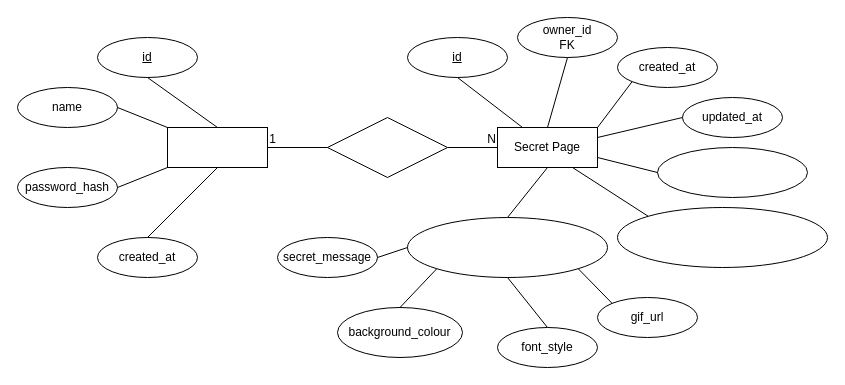
Some shapes in this 845 by 385 pixel diagram are drawn without their labels. Here are the shapes that lost their labels. From the top down, the centre of each, then its label:
the point at 217,147: User
the point at 387,147: owns
the point at 732,172: secret_message_prompt
the point at 507,247: encrypted_secret_message_info
the point at 722,237: secret_message_password_hash
